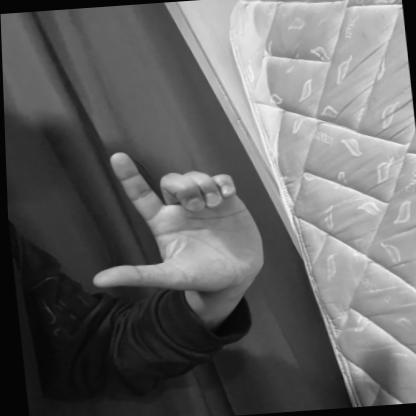L: (58, 135, 274, 302)
